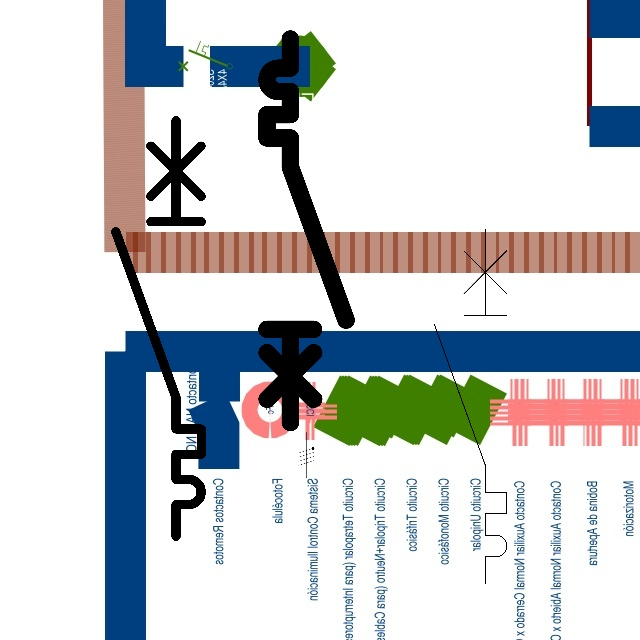interruptor_termomagnetico: (105, 110, 212, 547), (257, 29, 355, 432), (425, 220, 516, 593)
